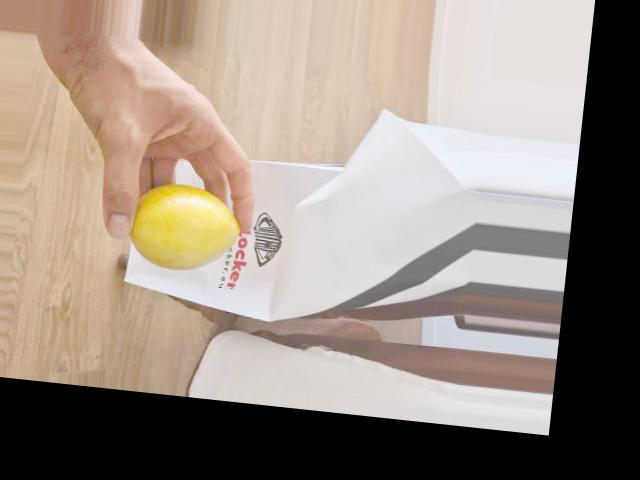lemon: (126, 175, 238, 279)
